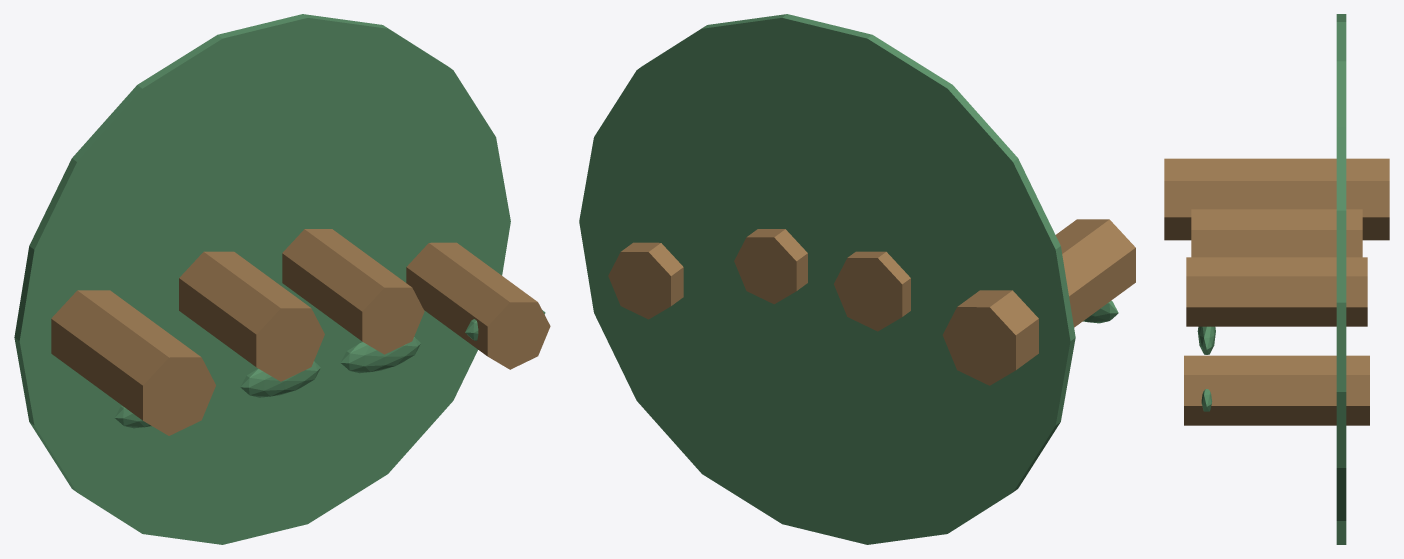
Rendered from 02_local_prop_cluster.glb.
3 renders of one model, left to right at view 1: azimuth 30°, elevation 25°; view 2: azimuth 150°, elevation 25°; view 3: azimuth 270°, elevation 25°, orthographic. The views are drawn at different scales.
Visible parts, largest first — view 1: scatter_base, root_stump_0, root_stump_1, root_stump_2, root_stump_3, moss_2, moss_1; view 2: scatter_base, root_stump_0, root_stump_1, root_stump_3, root_stump_2; view 3: root_stump_0, root_stump_3, root_stump_2, root_stump_1, scatter_base, moss_2.
Part boxes in pixels (x1,y1,x2,y2): scatter_base: [14, 14, 510, 544]; root_stump_0: [51, 290, 215, 435]; root_stump_1: [179, 251, 324, 381]; root_stump_2: [282, 229, 424, 354]; root_stump_3: [406, 242, 550, 369]; moss_2: [340, 337, 420, 373]; moss_1: [240, 361, 320, 397]; scatter_base: [579, 14, 1075, 544]; root_stump_0: [942, 219, 1135, 385]; root_stump_1: [834, 251, 910, 331]; root_stump_3: [608, 242, 683, 319]; root_stump_2: [734, 229, 807, 304]; root_stump_0: [1164, 158, 1389, 240]; root_stump_3: [1184, 355, 1369, 425]; root_stump_2: [1186, 257, 1367, 326]; root_stump_1: [1191, 209, 1362, 257]; scatter_base: [1336, 14, 1346, 544]; moss_2: [1197, 326, 1215, 354].
Size of the model in its own units: 1.9 by 1.87 by 0.8036.
